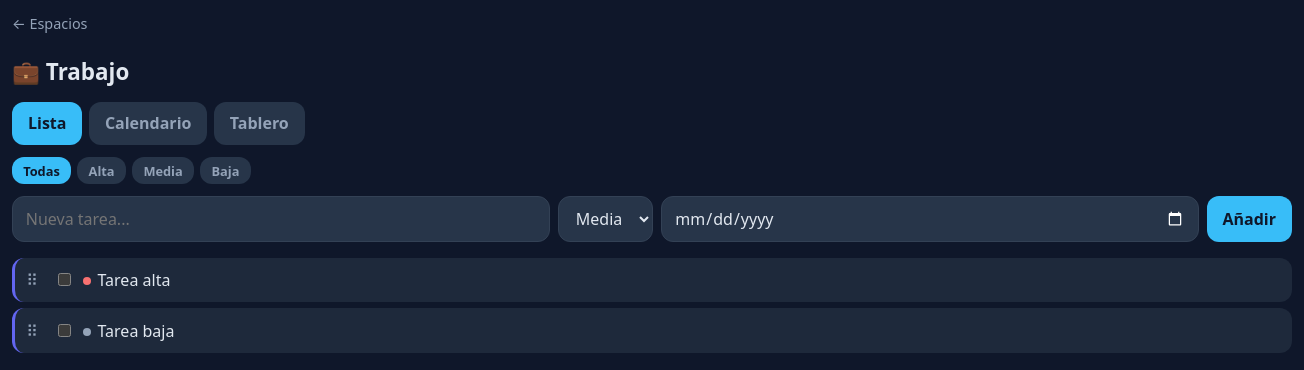
Test: SpaceDetailPage › filters tasks by priority
Check: the text "Tarea alta" is shown, box left=84, top=269, right=170, bottom=291
Check: the text "Tarea baja" is shown, box left=84, top=320, right=174, bottom=342
Click the button "Alta": (102,171) left=77, top=157, right=126, bottom=184
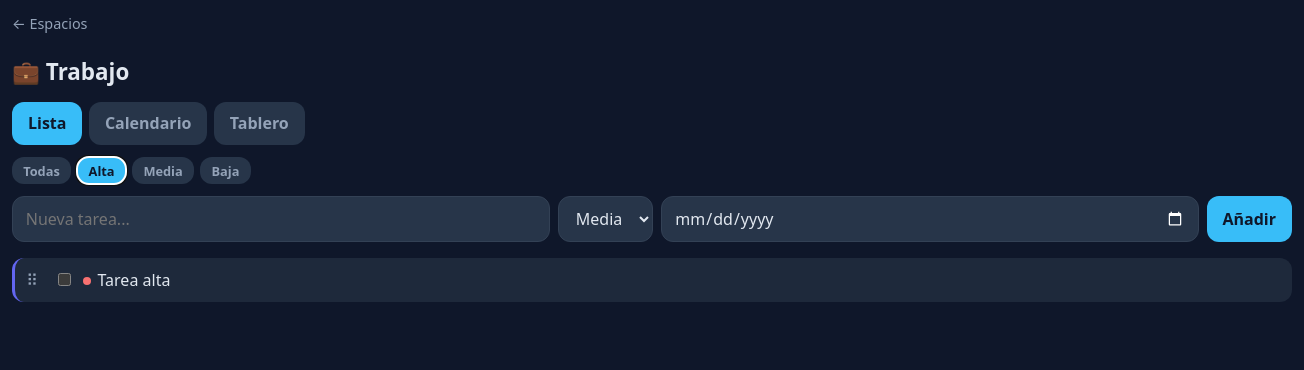
Check: the text "Tarea alta" is shown, box left=84, top=269, right=170, bottom=291
Check: the text "Tarea baja" is gone
